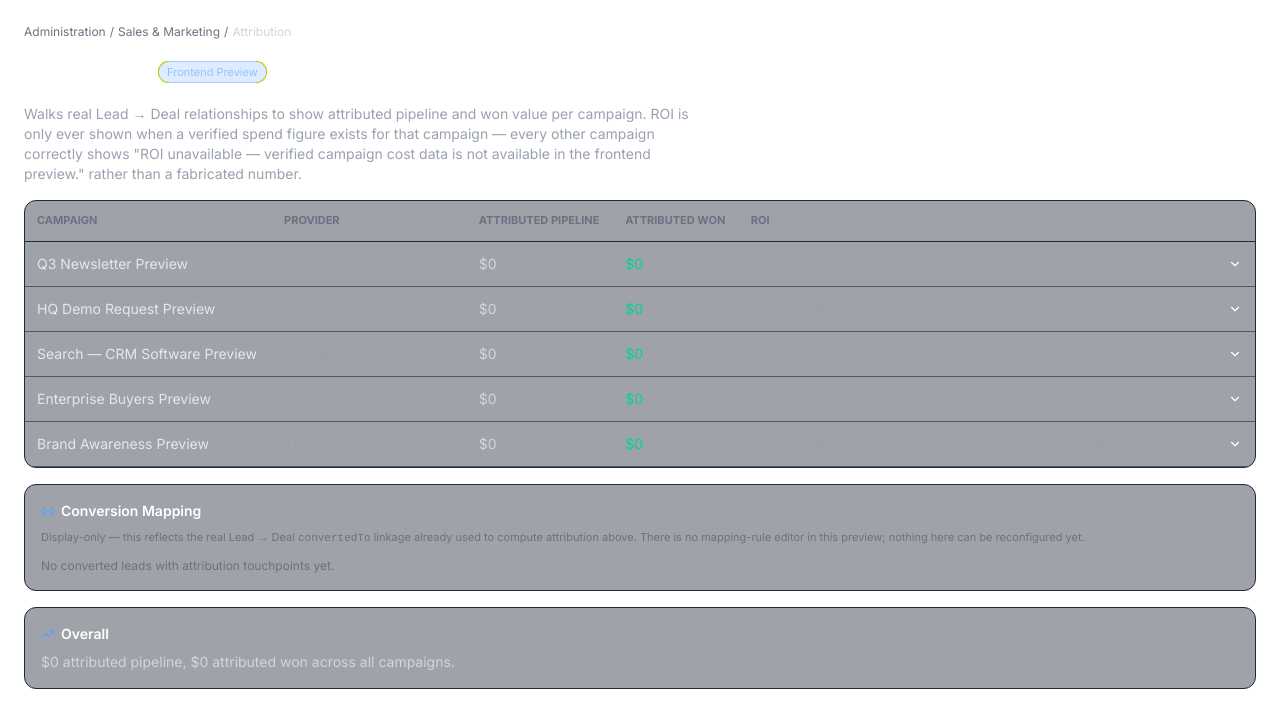
Test: SalesAttribution › expands a campaign row to show touchpoint detail
This screenshot has width=1280, height=720.
Click the row that starts with "Q3 Newsletter Preview": [640, 264] box [25,241,1255,286]
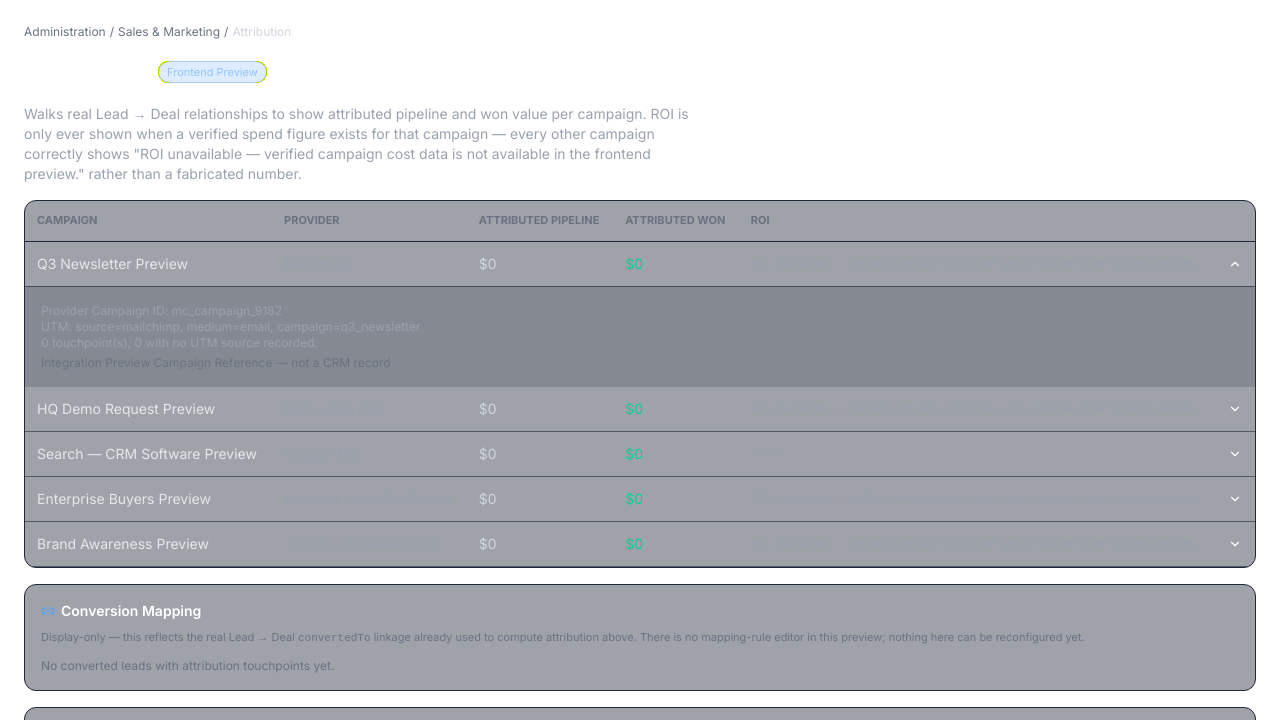
Expected: the text "Provider Campaign ID: mc_campaign_9182" is shown, [41,303,282,318]
